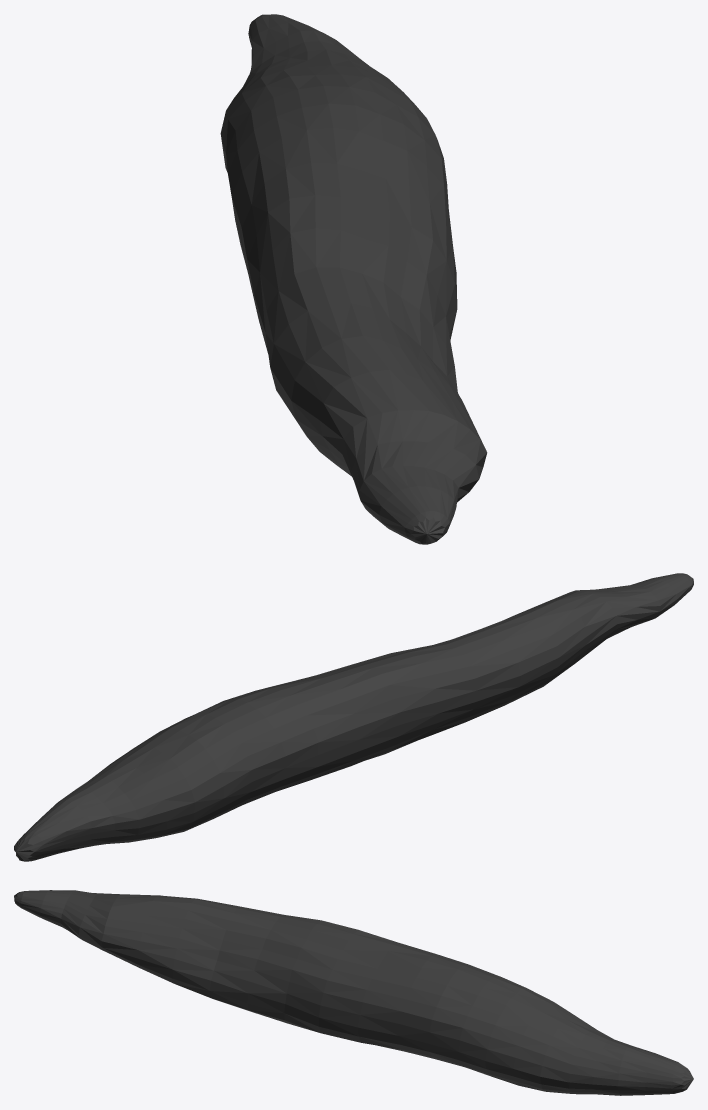
File: CommonDigExt_1.glb
The picture shows the model from 3 angles, top to bottom: view 1: azimuth 30°, elevation 25°; view 2: azimuth 150°, elevation 25°; view 3: azimuth 270°, elevation 25°; orthographic projection. The views are drawn at different scales.
Parts seen in each view (by area): view 1: CommonDigExt_1; view 2: CommonDigExt_1; view 3: CommonDigExt_1.
Boxes of the visible parts, x1,y1,x2,y2 form: CommonDigExt_1: (220, 14, 487, 544); CommonDigExt_1: (14, 573, 693, 861); CommonDigExt_1: (14, 890, 693, 1095).
Size of the model in its own units: 0.00851 by 0.00305 by 0.0184.
1 material, 1 textured.
